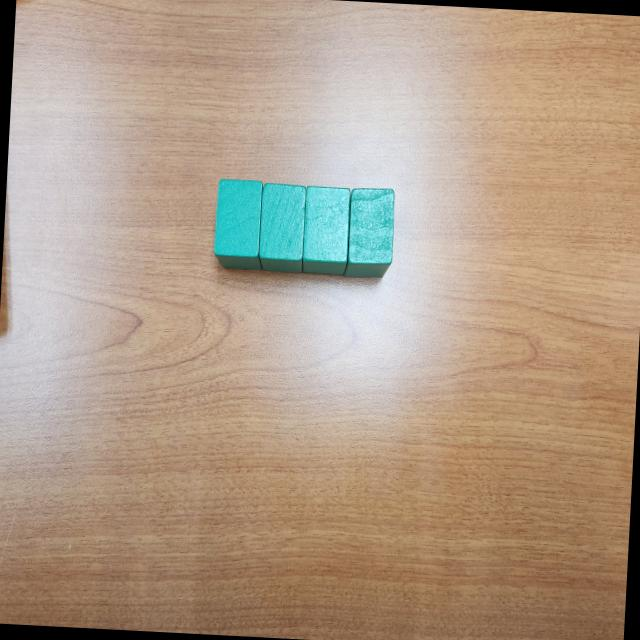green: (342, 186, 397, 282), (212, 178, 268, 272), (301, 185, 352, 278), (257, 182, 308, 274)
